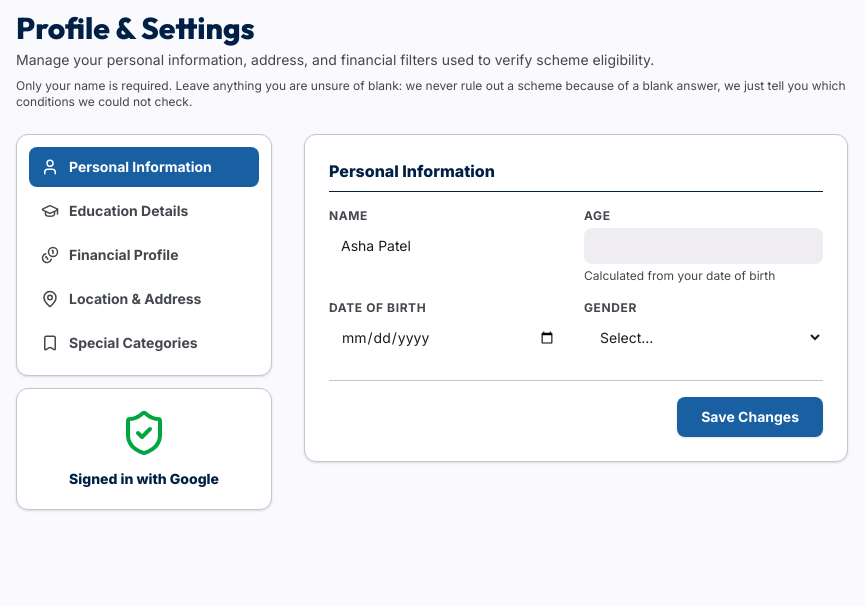
Test case: Profile form: when the save fails › shows the server message when it gave no field reasons (for example, it could not be reached)
This screenshot has width=865, height=606.
Click the button "Save Changes".
click(750, 417)  # box [677,397,823,437]
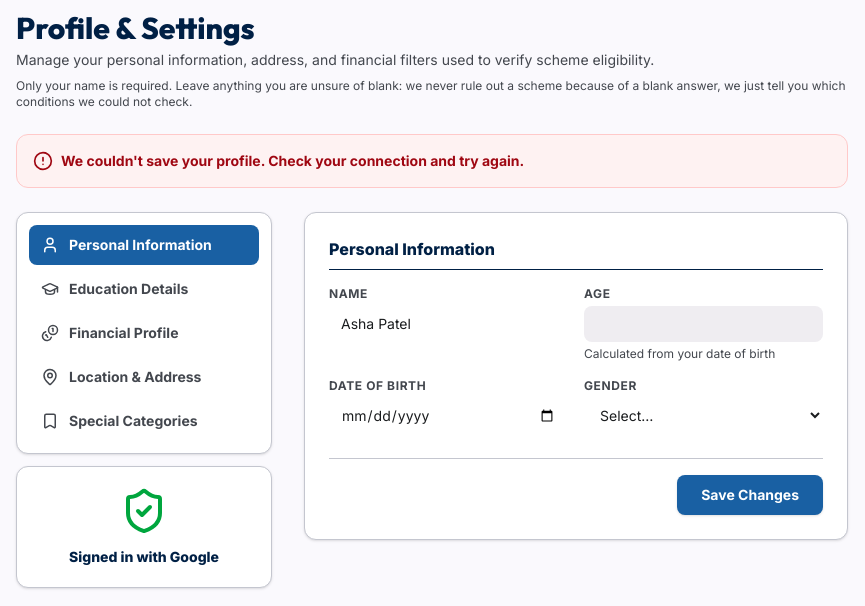
Expected: the message reads "We couldn't save your profile. Check your connection and try again.", [61,152,524,169]
